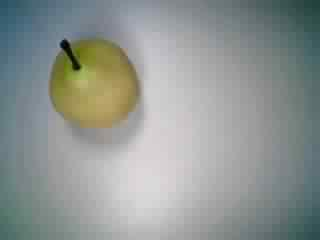pear: (44, 29, 143, 132)
